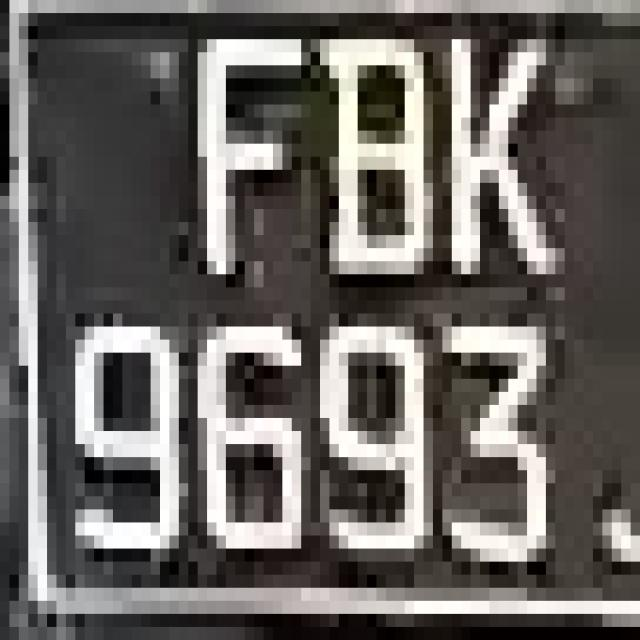3: (424, 300, 564, 588)
6: (179, 300, 339, 588)
9: (320, 274, 452, 601), (56, 287, 179, 601)
B: (311, 13, 433, 314)
F: (160, 26, 320, 327)
K: (424, 13, 564, 340)
